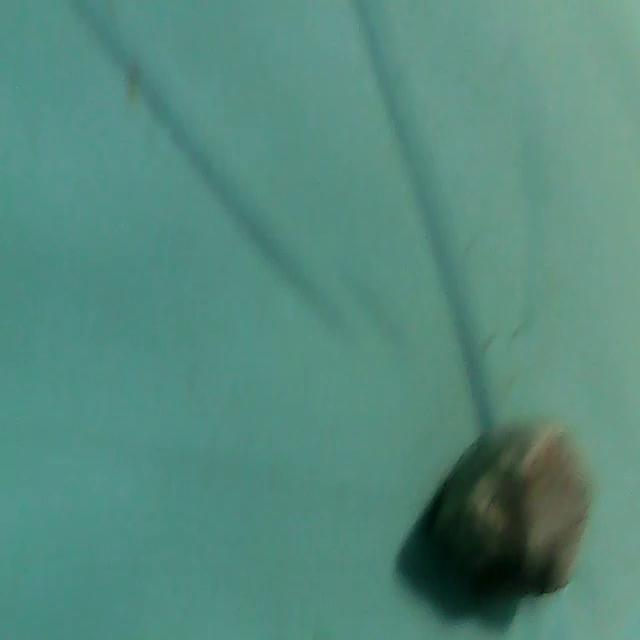rock: (400, 388, 598, 612)
